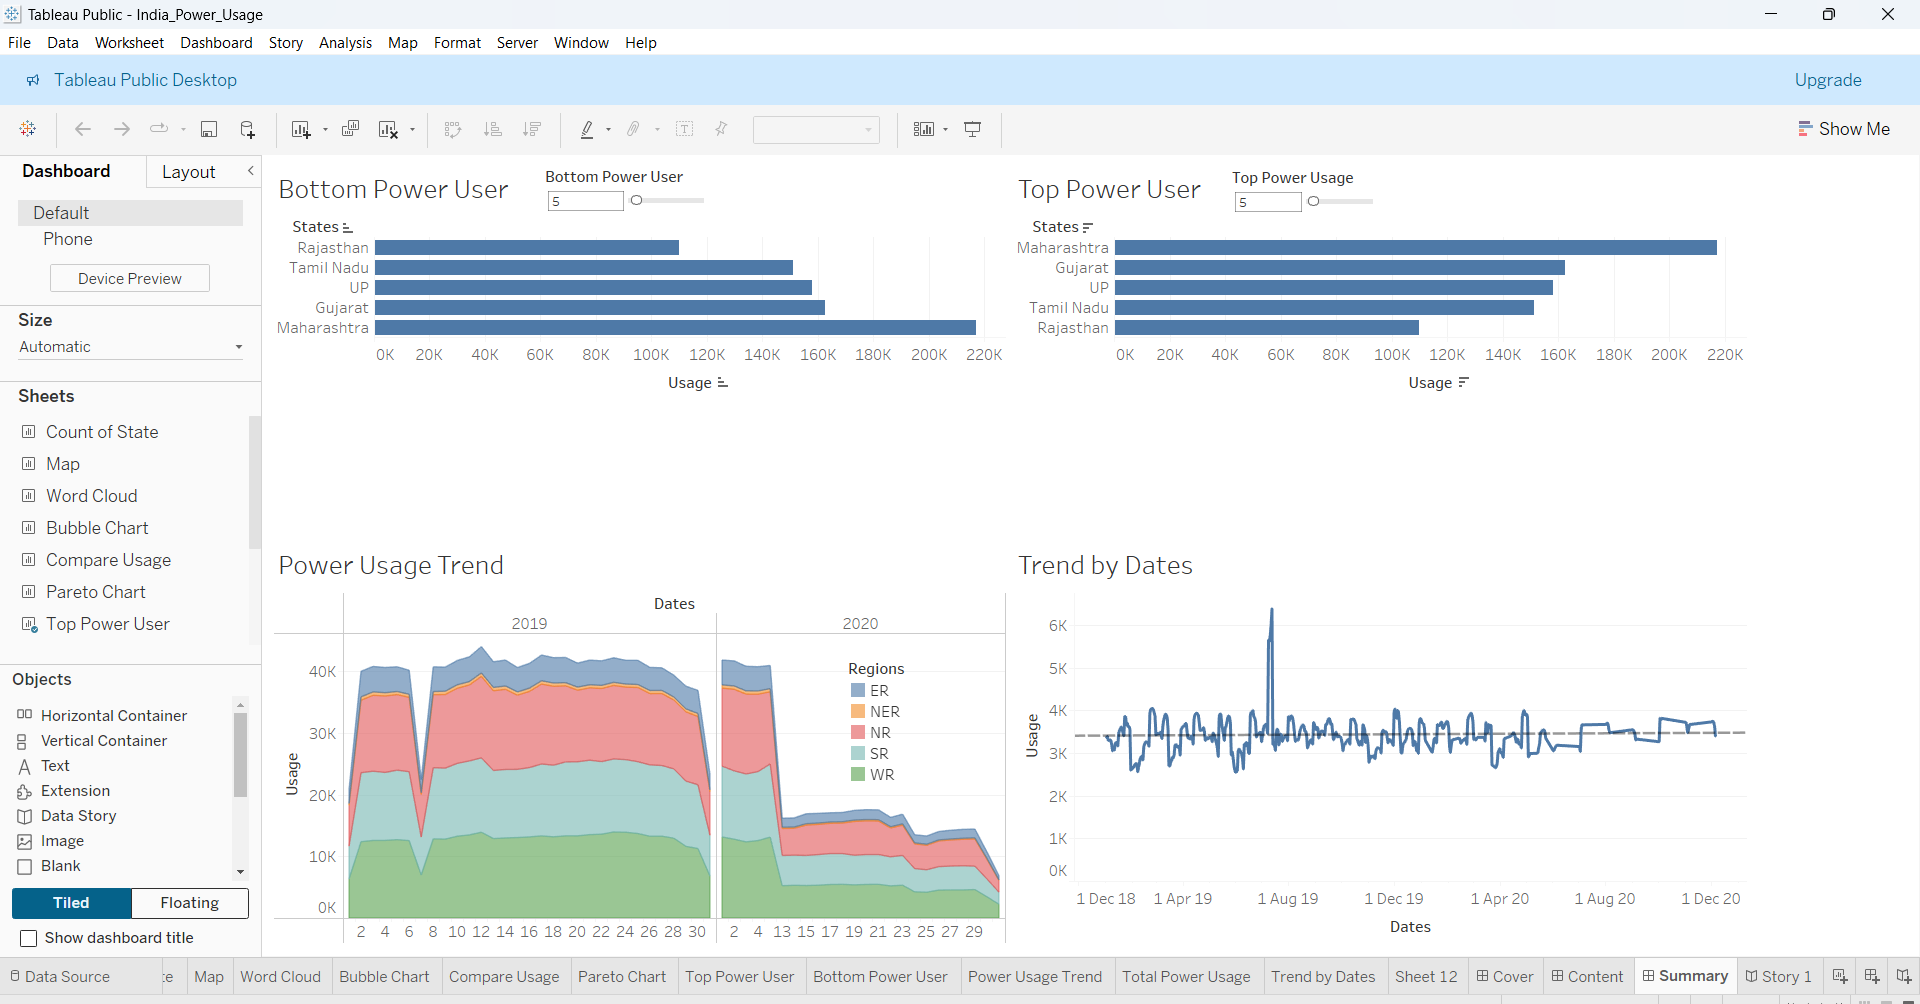

This screenshot's page, from the dashboard's own definition file:
{"tool":"tableau","page":{"name":"Summary","canvas":[1000,1000],"units":"permille","ordinal":2},"visuals":[{"type":"worksheet","title":"Bottom Power User","mark":"Automatic","rows":["States"],"cols":["Usage"],"box":[4.8,10,446.9,469.4]},{"type":"worksheet","title":"Top Power User","mark":"Automatic","rows":["States"],"cols":["Usage"],"box":[451.7,10,446.9,469.4]},{"type":"parameter","param":"[Parameters].[Parameter 2]","box":[171,13.7,97.7,71.2]},{"type":"parameter","param":"[Parameters].[Parameter 1]","box":[585.2,15,86.7,63.7]},{"type":"worksheet","title":"Power Usage Trend","mark":"Area","rows":["Usage"],"cols":["Dates","Dates"],"box":[4.8,479.4,446.9,510.6]},{"type":"worksheet","title":"Trend by Dates","mark":"Automatic","rows":["Usage"],"cols":["Dates"],"box":[451.7,479.4,446.9,510.6]},{"type":"legend","title":"Power Usage Trend","param":"[federated.10p9sqn0znadei0zl1reu1oo5zue].[none:Regions:nk]","box":[353.7,628,85.5,158.6]}]}

Visuals, with their boxes on the dashboard's canvas, which has no fixed pixel size, in thousandths of its width and height (x1, y1, x2, y2). These are canvas units, not pixel positions in the 1920x1004 screenshot, which may show the page scaled, cropped or inside an application window:
"Bottom Power User" worksheet: 5, 10, 452, 479
"Top Power User" worksheet: 452, 10, 899, 479
parameter: 171, 14, 269, 85
parameter: 585, 15, 672, 79
"Power Usage Trend" worksheet (Area marks): 5, 479, 452, 990
"Trend by Dates" worksheet: 452, 479, 899, 990
"Power Usage Trend" legend: 354, 628, 439, 787
